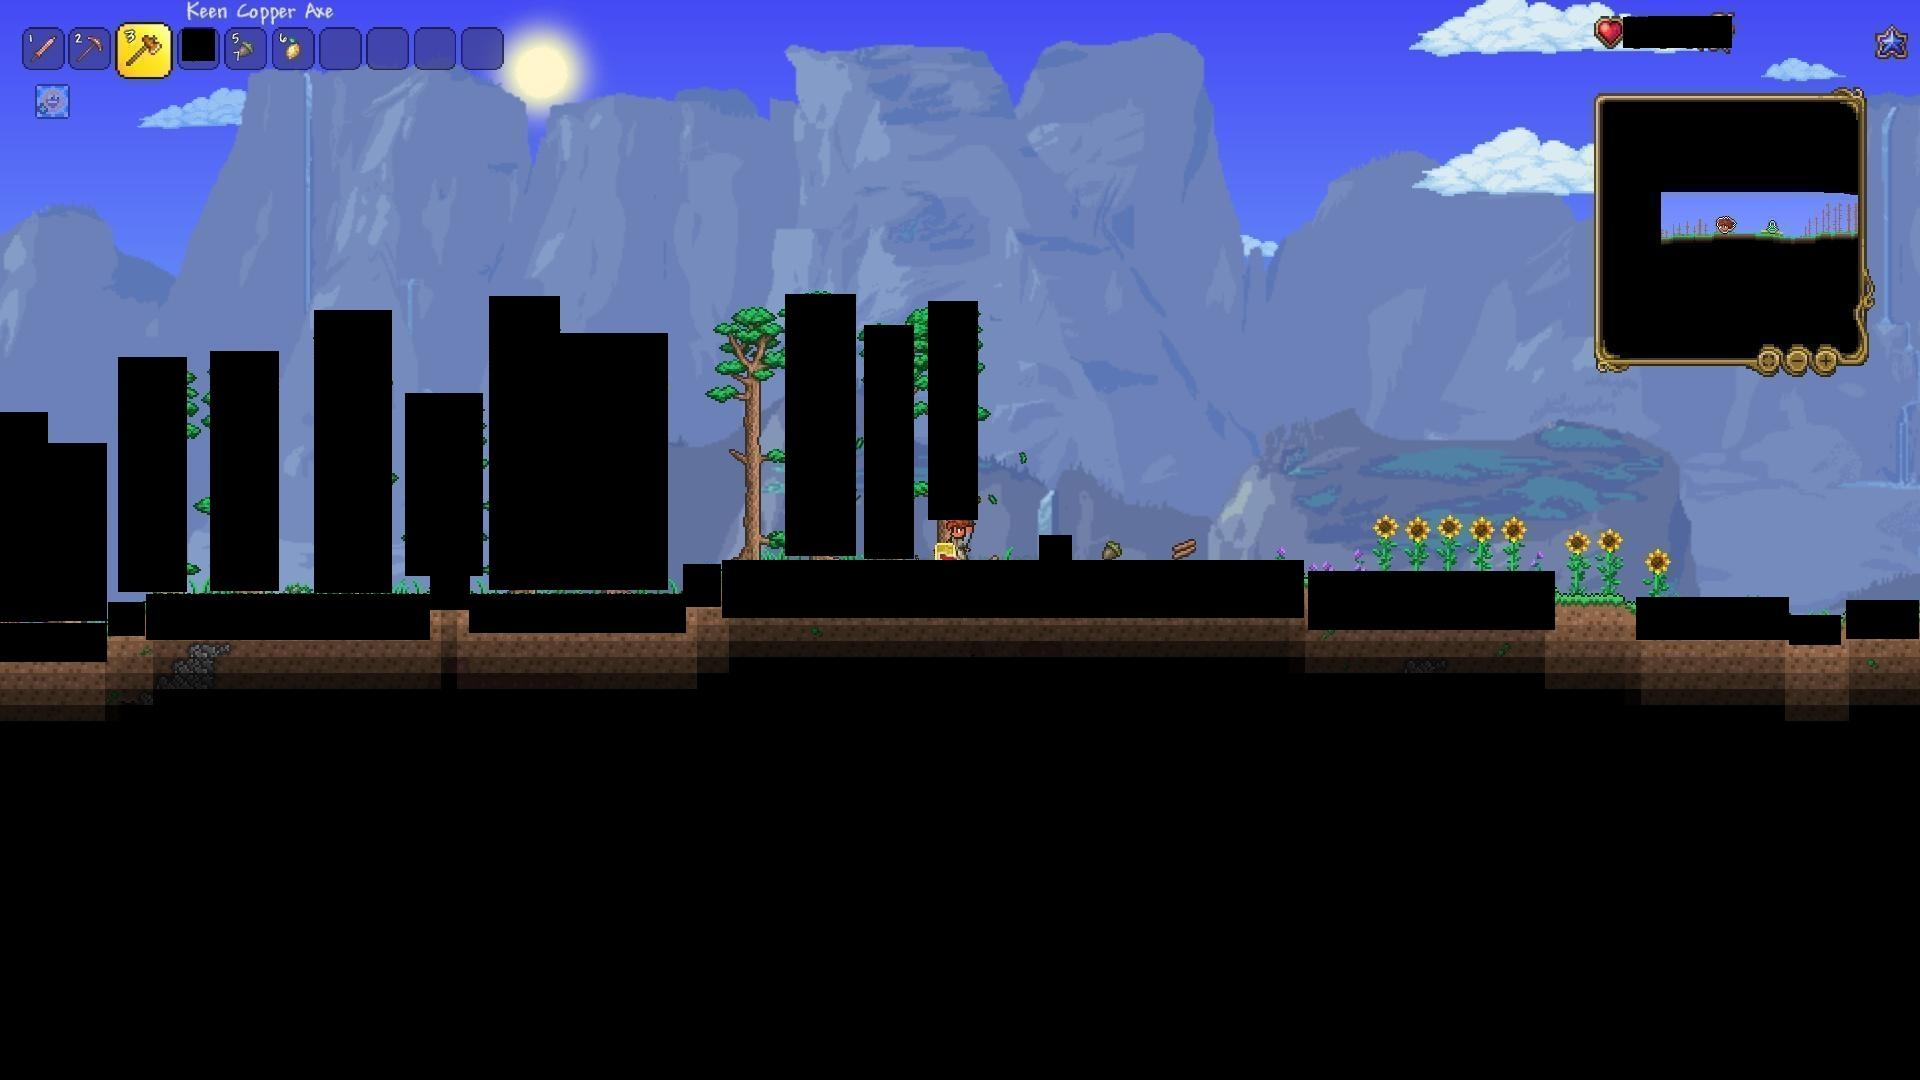dirt: (1553, 588, 1634, 626)
heart: (1596, 15, 1627, 45)
tree: (705, 302, 777, 560)
wood: (1167, 535, 1199, 564)
